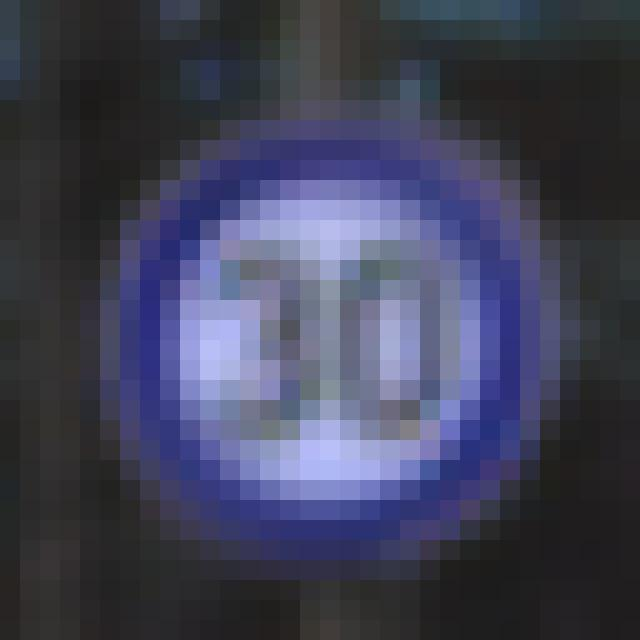SPEED LIMIT 30: (105, 133, 565, 547)
